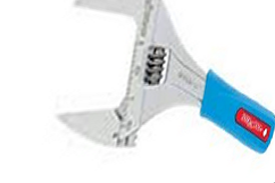Wrench: (53, 2, 275, 158)
